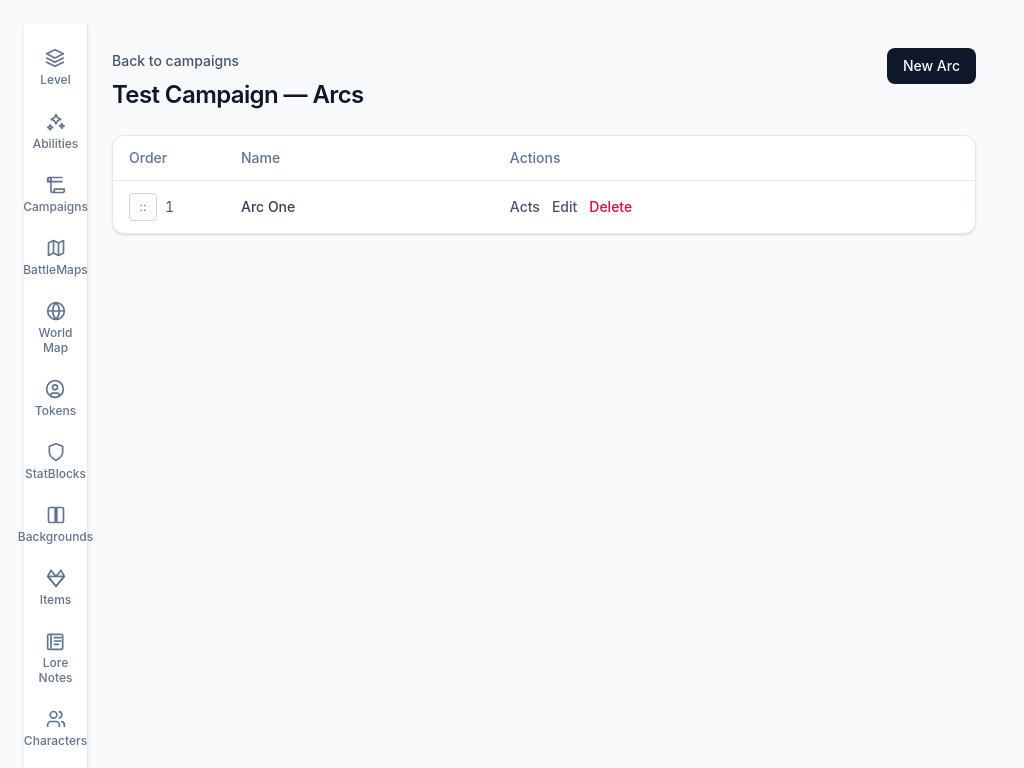
Test case: ArcsPage › edit arc › opens edit dialog with existing name pre-filled
The width and height of the screenshot is (1024, 768).
Expected: the text "Arc One" is shown, [225, 180, 494, 233]
Click the button "Edit": (565, 207) [552, 197, 577, 217]
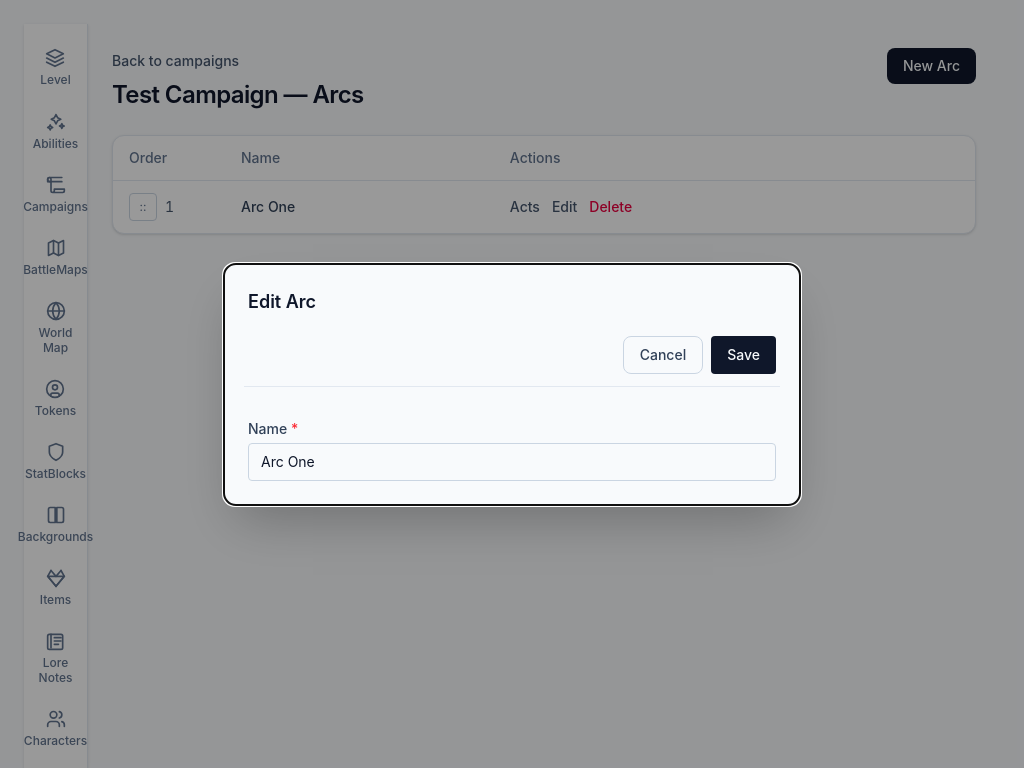
Result: the dialog "Edit Arc" is shown at [224, 264, 800, 504]
Result: the field labelled "Name *" holds "Arc One" at [248, 442, 776, 480]
